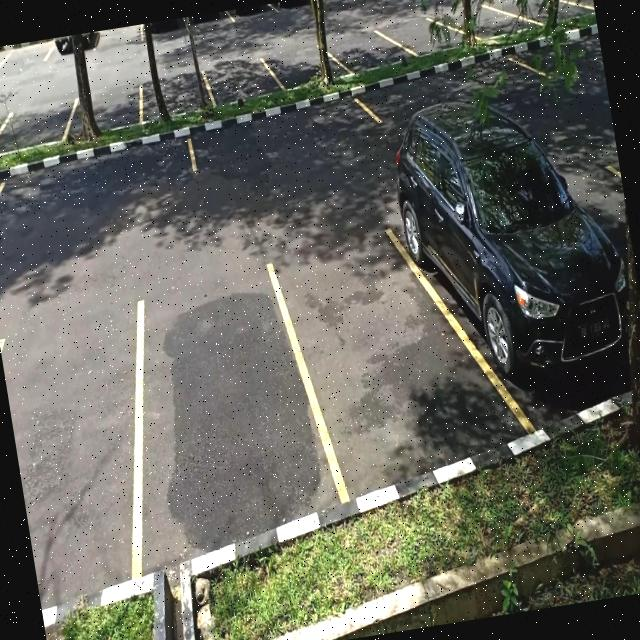empty: (116, 272, 324, 562), (276, 220, 474, 501), (0, 318, 165, 603), (0, 129, 198, 218), (186, 93, 379, 171), (68, 78, 148, 142), (0, 92, 78, 153), (136, 64, 214, 124), (333, 22, 405, 81), (205, 54, 281, 108), (272, 41, 344, 94)
occupied: (394, 117, 640, 435)
